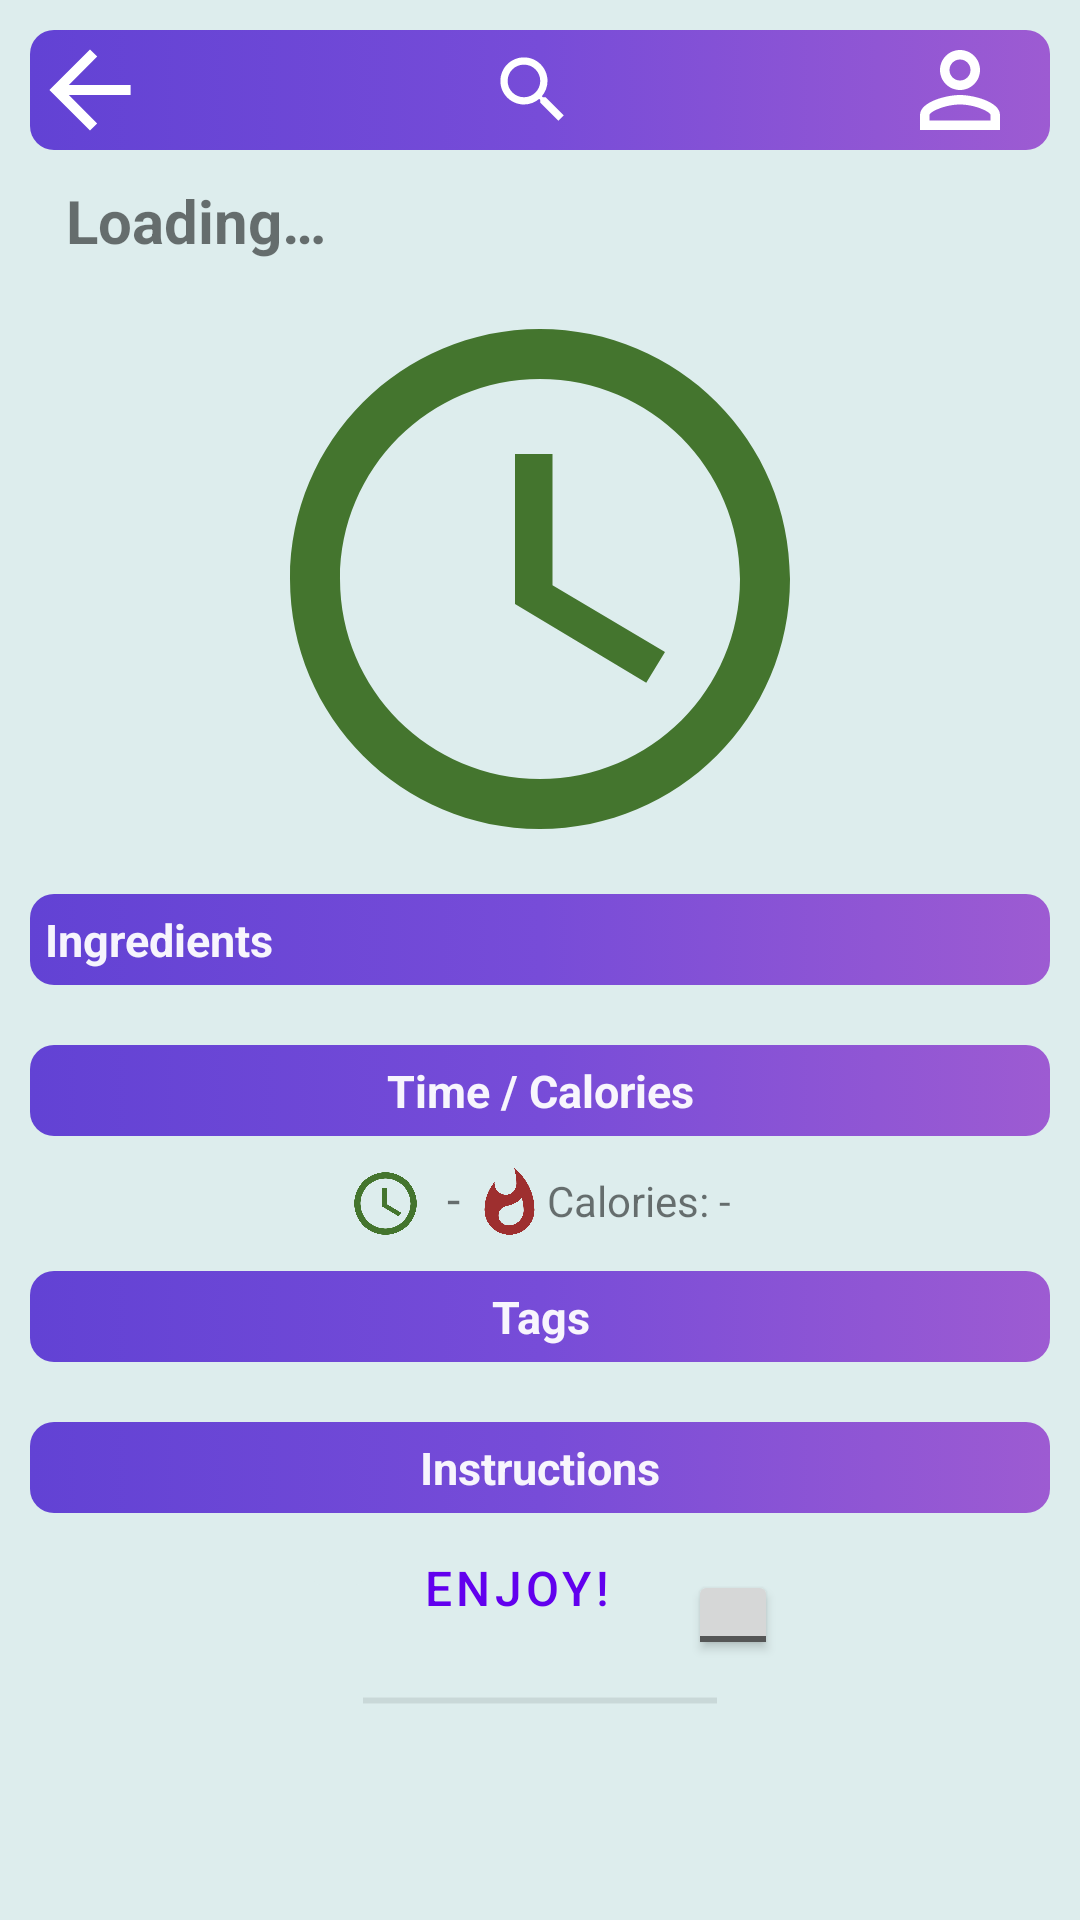

Icon click points for this 1080px x 1920px phone screenshot, format (x,y):
backbutton: (90,90)
profile: (960,90)
search: (532,89)
whats hot: (509,1201)
